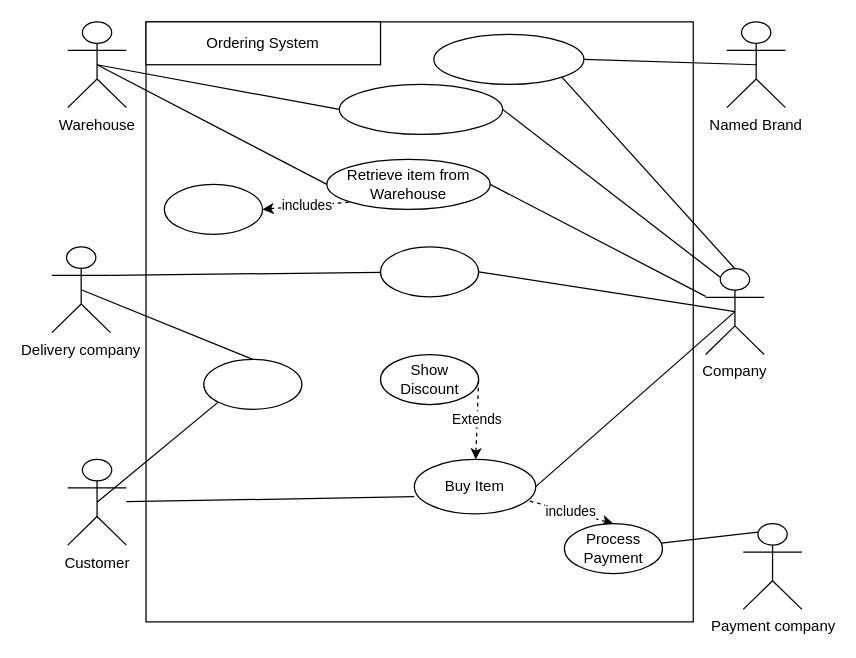
Some shapes in this 856 by 658 pixel diagram are drawn without their labels. Each missing label, with the centre of its shape:
"Assign Delivery Details" belongs at (x=429, y=271).
"Ship Order" belongs at (x=252, y=383).
"Source Item to buy" belongs at (x=508, y=58).
"Store Item in Warehouse" belongs at (x=420, y=108).
"Update Stock" belongs at (x=212, y=208).
